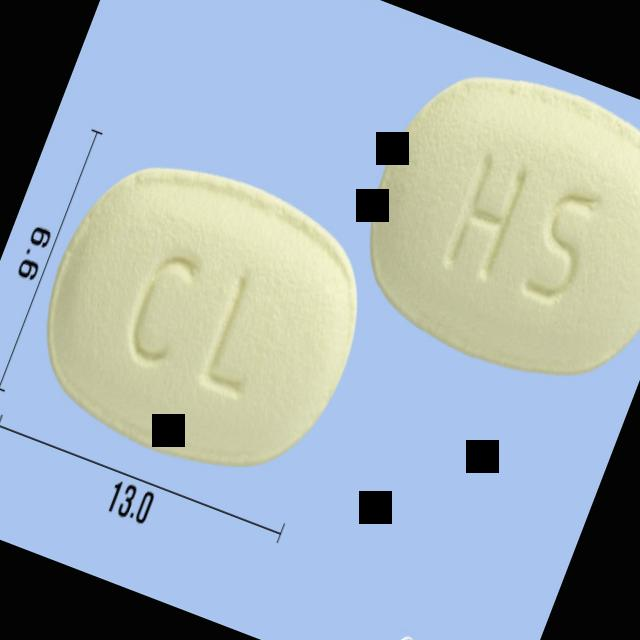Clithro - 500mg: (7, 128, 398, 508), (332, 37, 640, 411)
